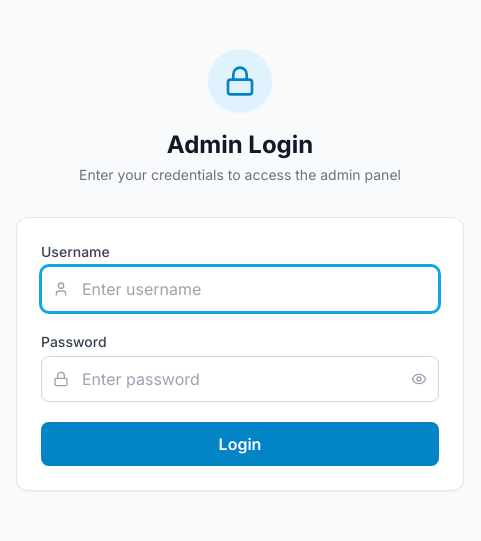
AdminLogin › should show error for empty fields on submit
Step 1. Click the button "Login" → [240, 444], box [41,422,439,466]
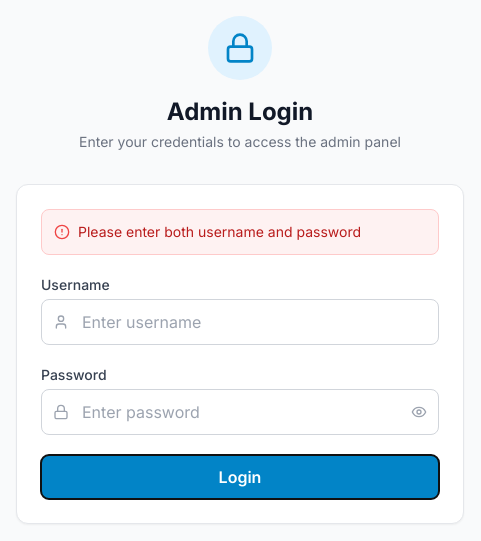
Expected: the text "Please enter both username and password" is shown, [78,222,361,242]
